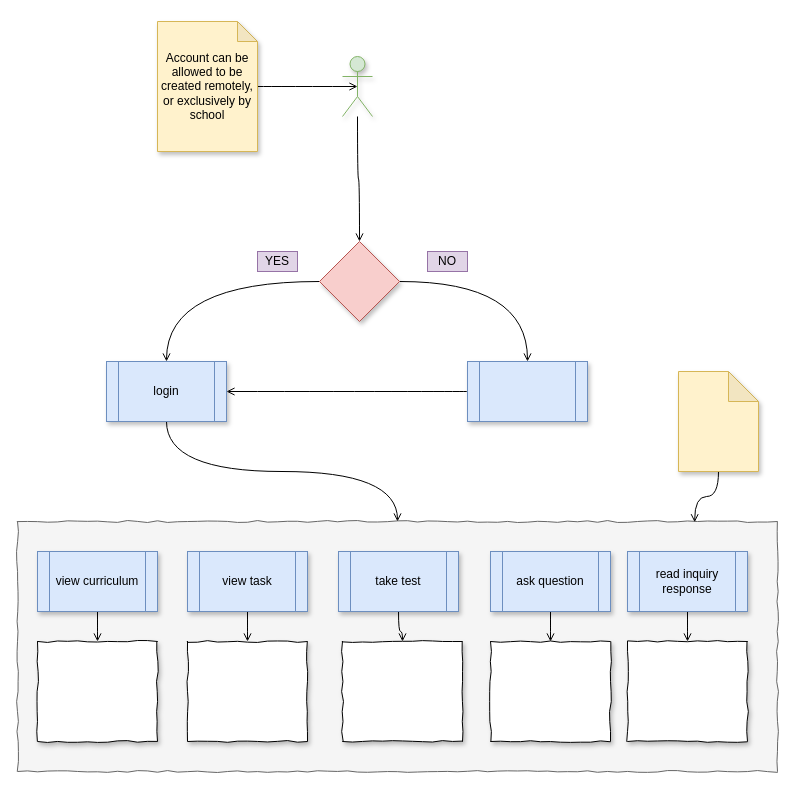
The diagram is 795 pixels wide and 789 high, and some of its shapes have lost their labels. Here are the shapes that lost their labels. From the top down, the centre of each, then its label:
At pixel 358 88: "STUDENT".
At pixel 360 282: "has account?".
At pixel 528 392: "create account".
At pixel 719 422: "activities that can be done by student".
